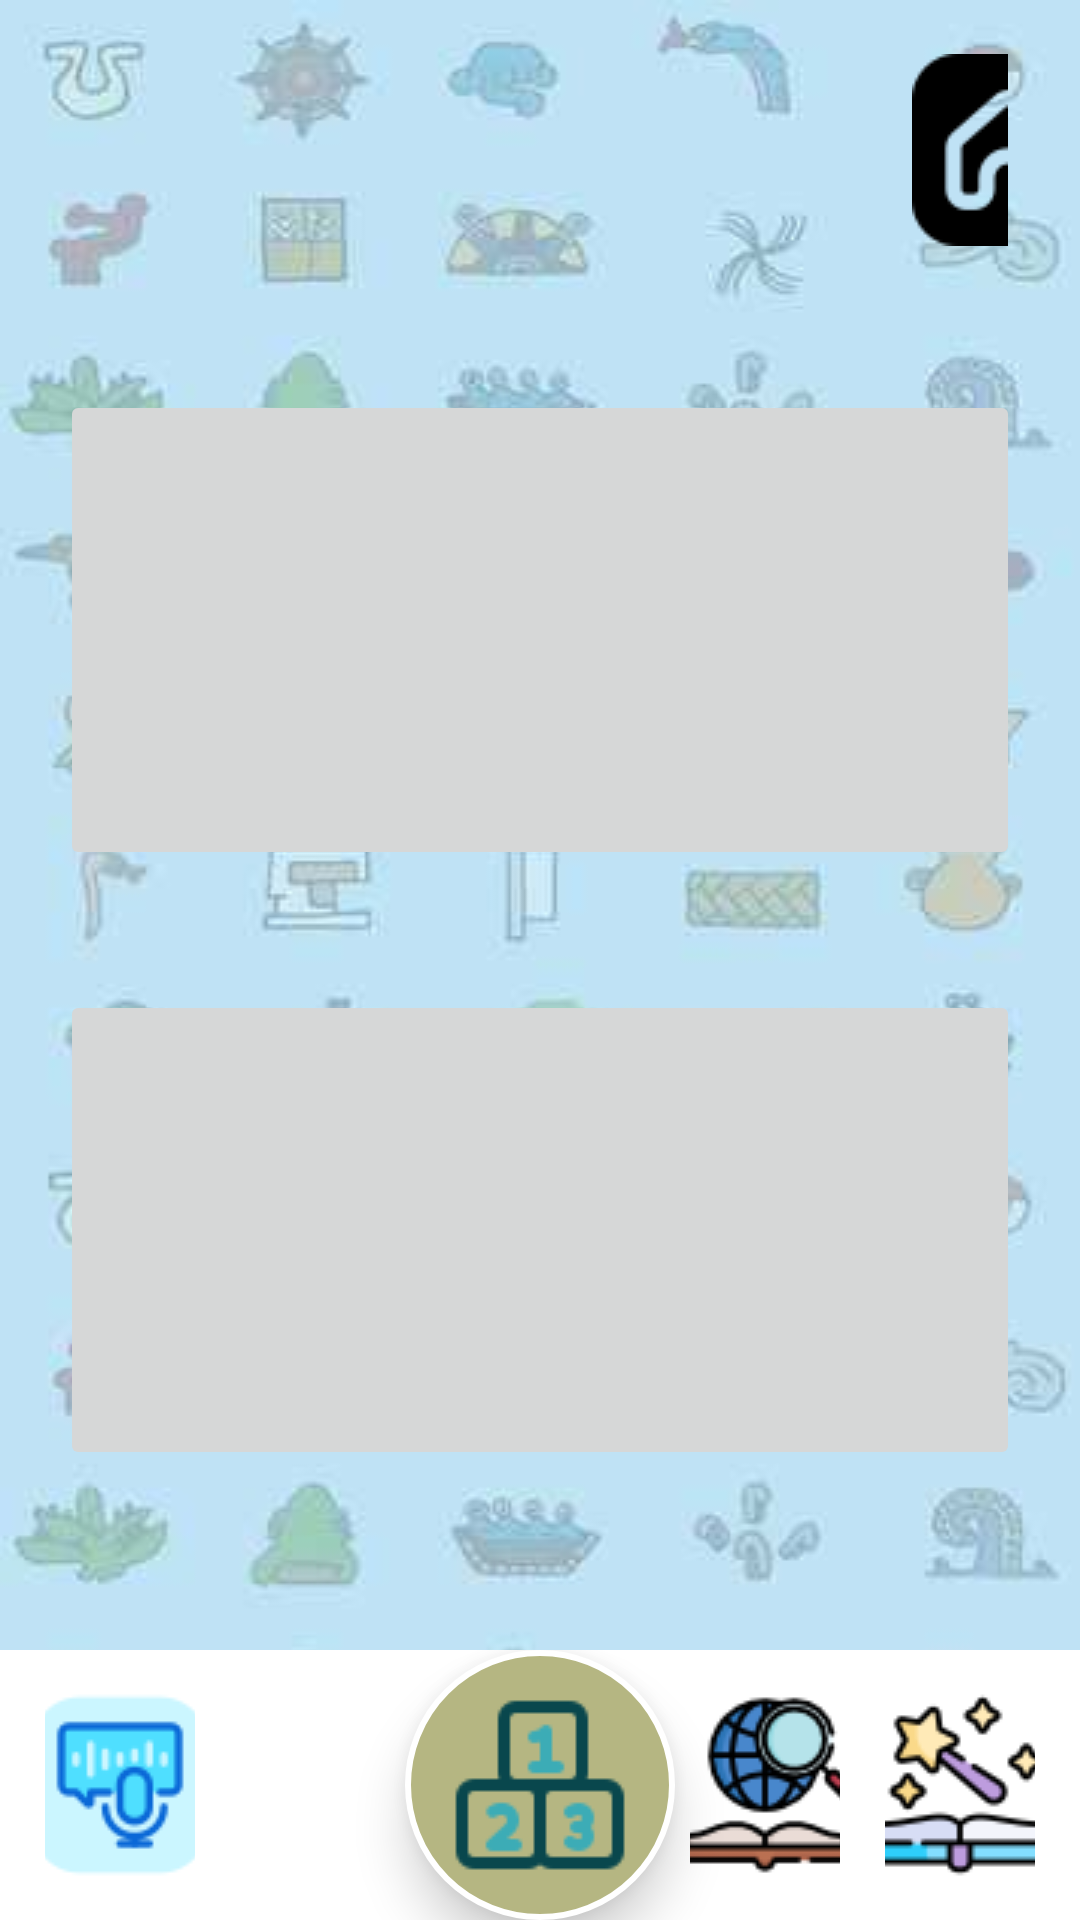

Screen size 1080px×1920px. Icon name, then its box in pixels as (left=x1, top=y1, right=x2, bottom=y2):
Voz: (left=45, top=1697, right=195, bottom=1873)
